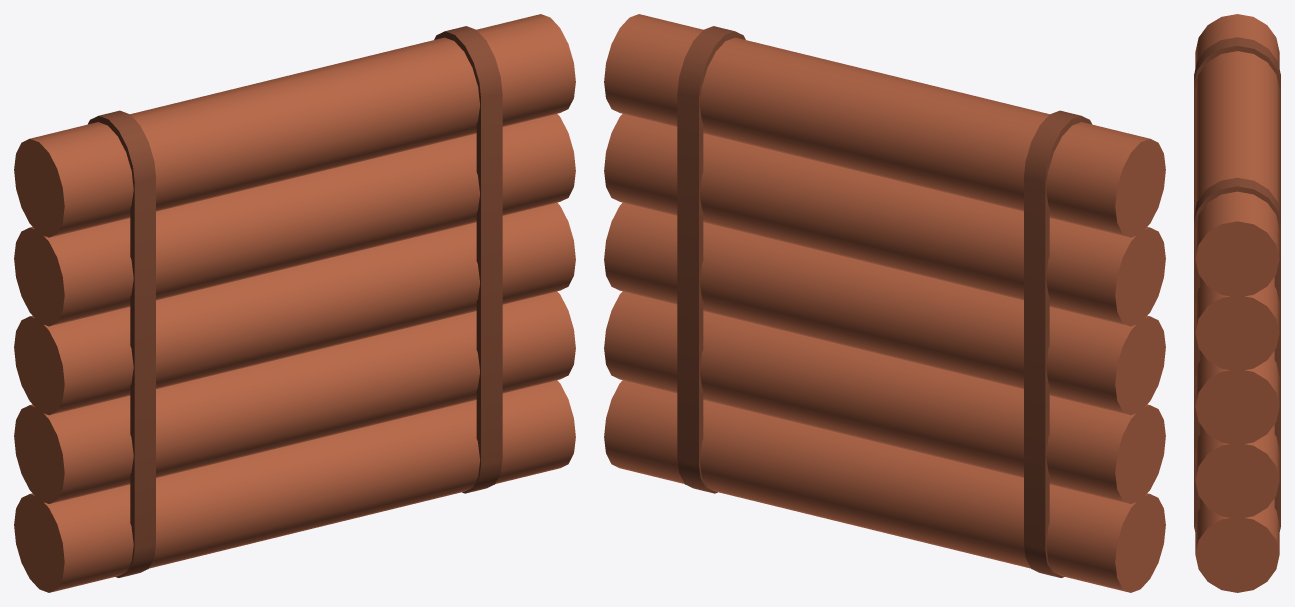
File: Wooden Wall.fbx
3 views of the same model, side by side, from view 1: azimuth 30°, elevation 25°; view 2: azimuth 150°, elevation 25°; view 3: azimuth 270°, elevation 25° (orthographic). The views are drawn at different scales.
Visible parts, largest first — view 1: Wooden Wall; view 2: Wooden Wall; view 3: Wooden Wall.
Boxes of the visible parts, left/top/right/bottom form: Wooden Wall: left=14, top=14, right=575, bottom=592; Wooden Wall: left=604, top=14, right=1165, bottom=592; Wooden Wall: left=1194, top=14, right=1280, bottom=592.
Size of the model in its own units: 4.23 by 3.59 by 0.7471.
